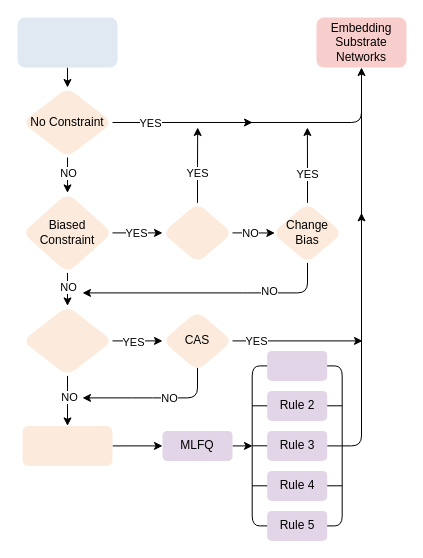
Some shapes in this 423 by 558 pixel diagram are drawn without their labels. The box of each missing label's shape, as (x1, y1, x2, y2) in pixels:
Check Bias: (162, 202, 232, 262)
Heavyweight Constraint: (22, 425, 112, 465)
Lightweight Constraint: (22, 305, 112, 375)
Rule 1: (267, 350, 327, 380)
VNR Arrived: (17, 17, 117, 67)
